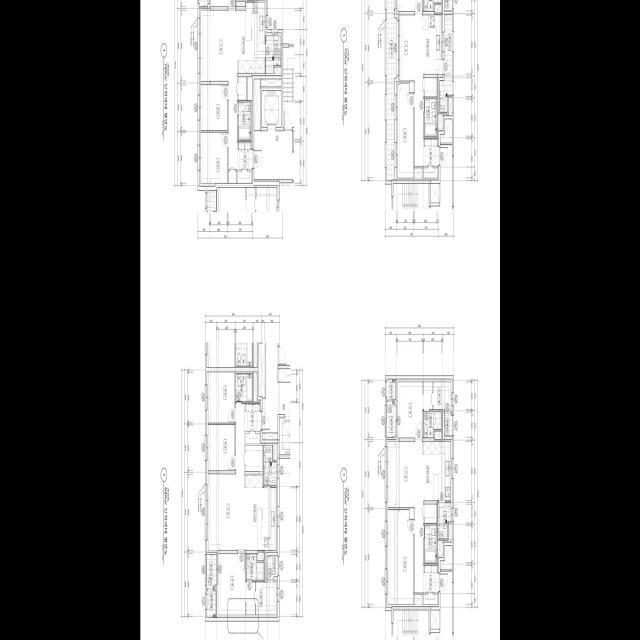background: (140, 0, 500, 640)
space_balconi: (386, 0, 397, 181), (439, 15, 452, 112), (265, 36, 280, 73), (263, 445, 276, 486), (437, 503, 451, 539), (206, 554, 216, 589), (386, 401, 395, 438)
space_bedroom: (388, 510, 413, 605), (218, 554, 245, 615), (397, 83, 413, 178), (397, 382, 422, 438), (200, 132, 227, 183), (208, 372, 234, 423), (200, 85, 227, 130), (208, 425, 234, 471), (397, 0, 422, 11)
space_dressroom: (246, 582, 276, 615), (423, 382, 451, 410)
space_elevator: (262, 91, 281, 127)
space_elevator_hall: (254, 131, 292, 179)
space_front: (423, 565, 439, 605), (423, 139, 439, 178), (237, 142, 253, 170), (245, 404, 261, 432)
space_kitchen: (245, 475, 276, 550), (238, 2, 265, 74), (423, 442, 450, 501), (423, 15, 443, 74)
space_living_room: (200, 10, 238, 170), (208, 404, 245, 550), (388, 441, 423, 593), (399, 15, 423, 166)
space_other: (245, 445, 262, 471), (254, 79, 260, 130), (440, 119, 452, 143), (440, 546, 452, 569), (424, 504, 437, 523), (424, 78, 437, 97), (267, 556, 277, 580), (444, 412, 452, 436), (430, 610, 440, 629), (430, 184, 440, 203), (238, 77, 246, 100), (237, 171, 251, 183), (261, 79, 281, 87), (245, 434, 260, 444), (262, 433, 277, 440), (228, 171, 236, 183), (253, 372, 256, 402), (444, 0, 452, 11), (414, 595, 422, 605), (414, 168, 422, 178), (437, 114, 442, 129), (437, 541, 442, 556), (448, 97, 452, 115), (257, 552, 264, 561), (434, 5, 441, 13), (434, 431, 441, 439), (448, 523, 451, 540), (273, 445, 276, 460), (236, 1, 245, 6), (274, 67, 280, 74)
space_outdoor_room: (206, 591, 216, 618), (386, 379, 395, 400)
space_toilet: (424, 99, 437, 137), (424, 525, 437, 563), (238, 102, 251, 140), (423, 411, 441, 438), (235, 374, 252, 402), (246, 554, 264, 580), (423, 0, 441, 11)
